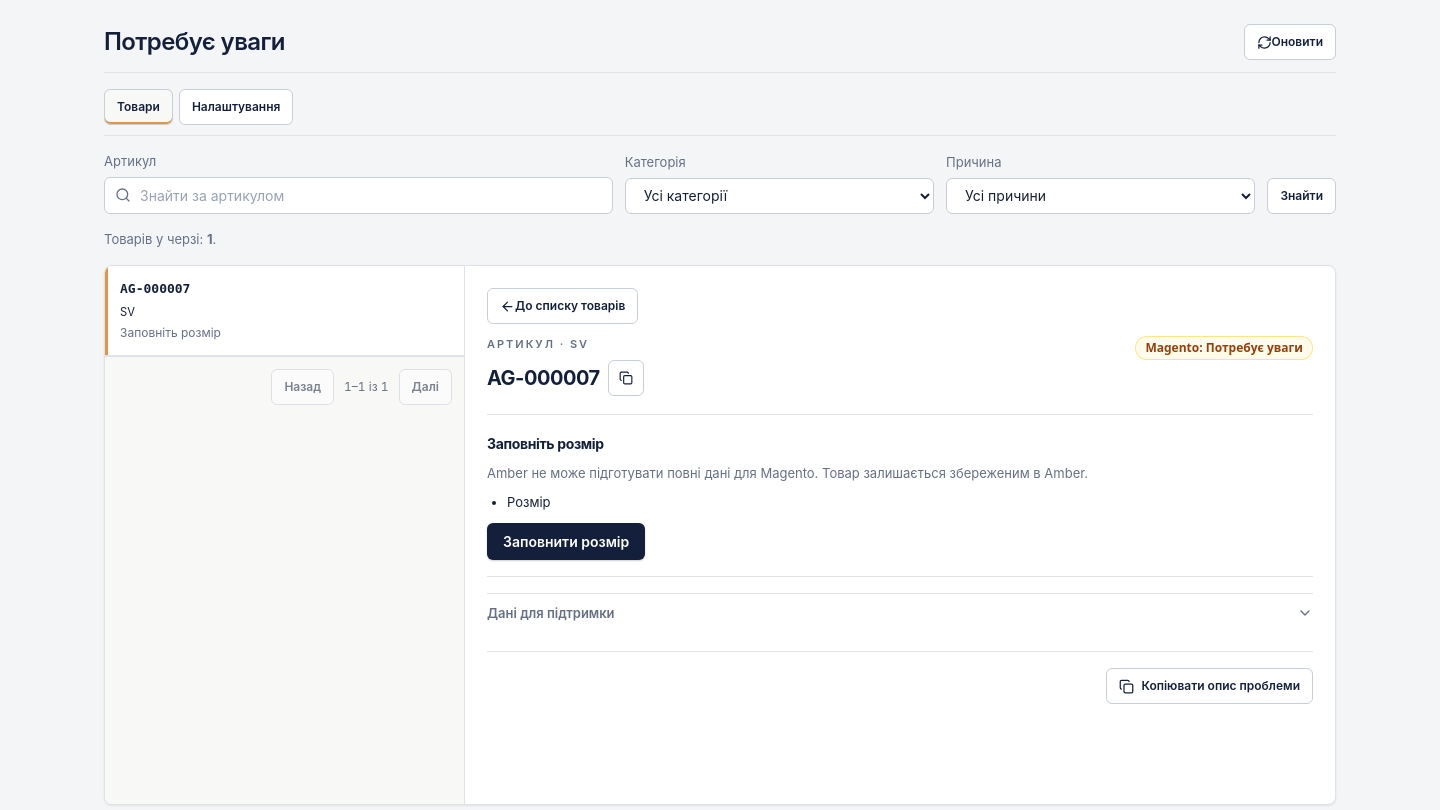
Test: successful repair retains the selected product when it leaves the attention queue without claiming delivery
The image size is (1440, 810).
Click the button "Заповнити розмір".
click(566, 541)  # box [487,522,645,560]
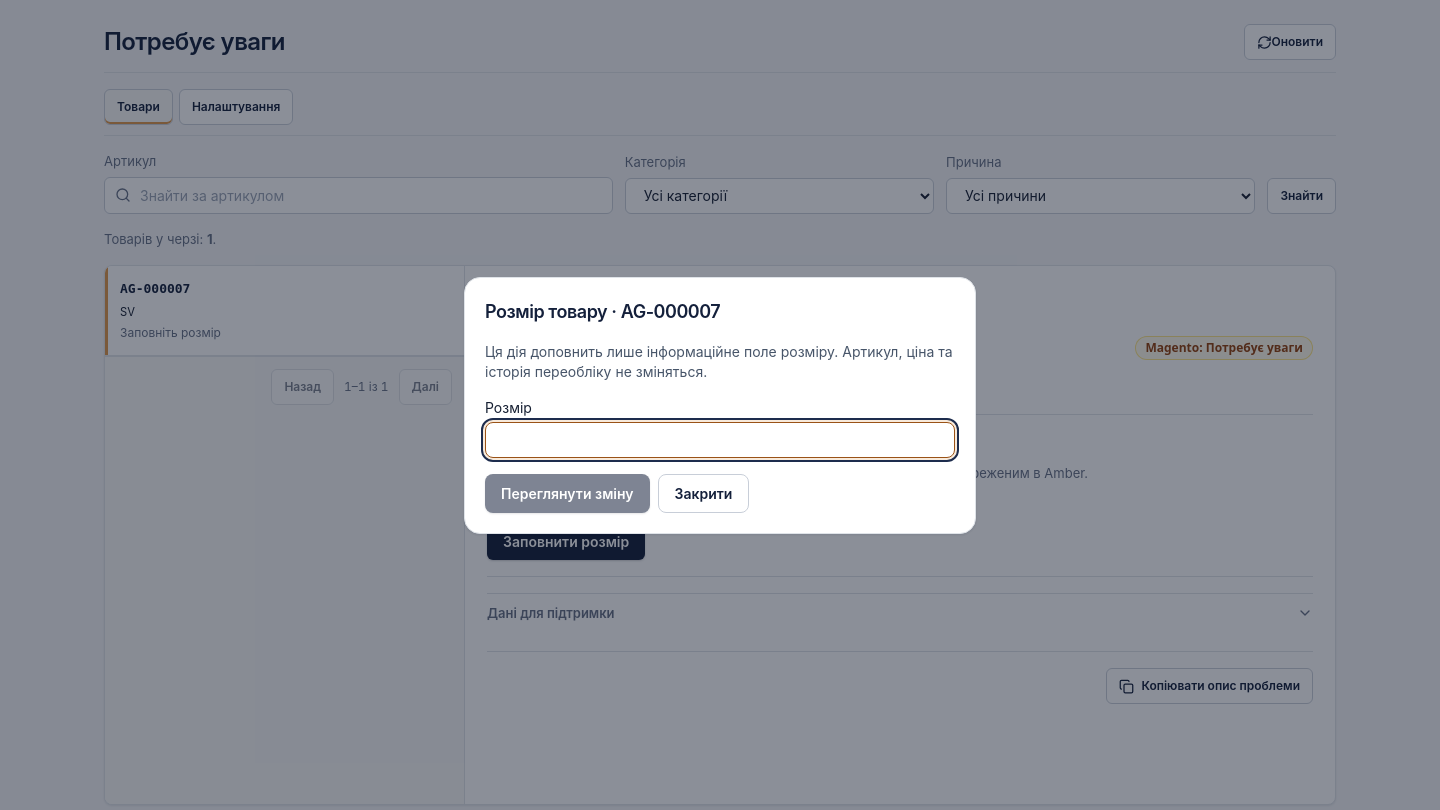
Type "12×8 см" into the field labelled "Розмір".
click(720, 440); type("12×8 см")  # box [485,422,955,458]
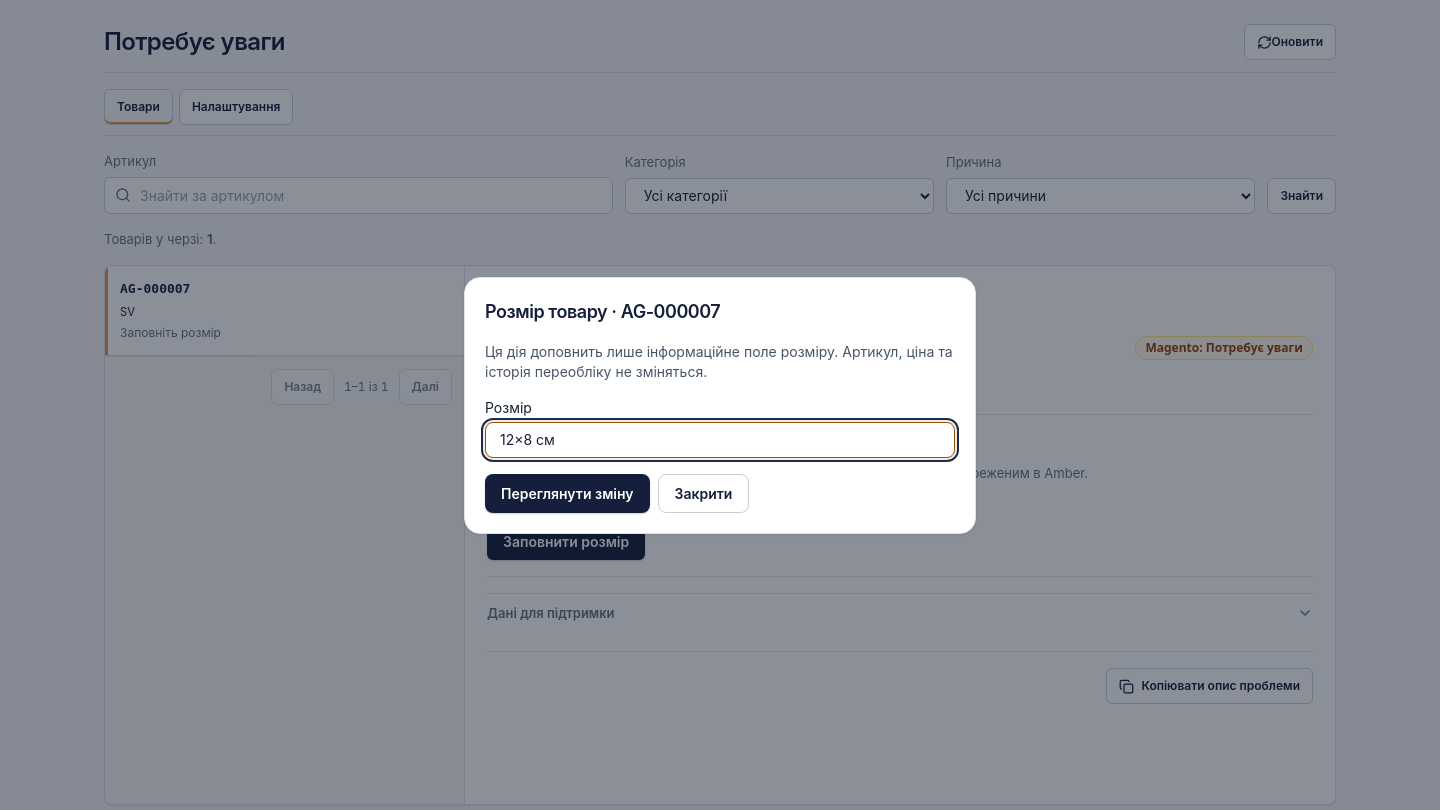
Click the button "Переглянути зміну".
click(567, 493)  # box [485,474,650,512]
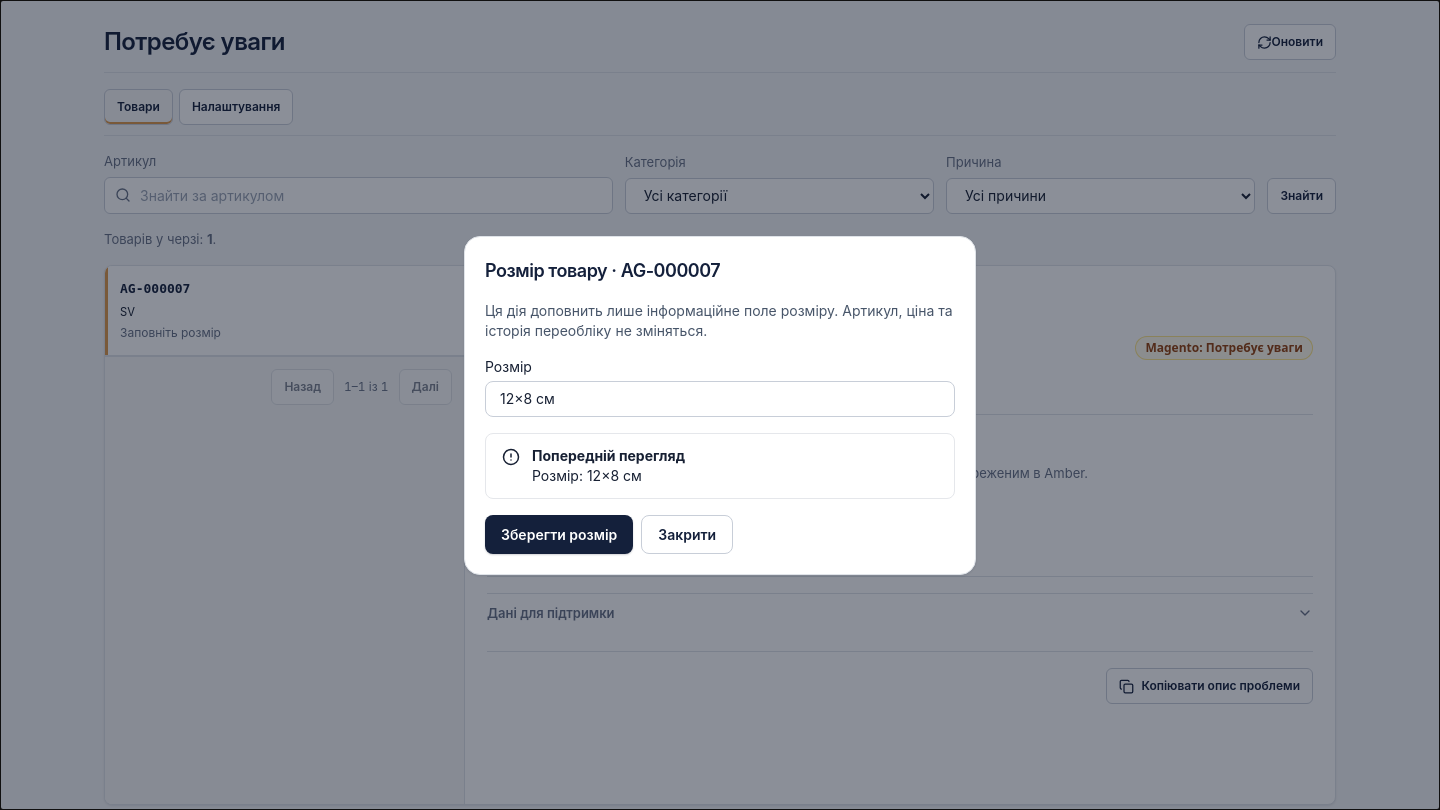
Click the button "Зберегти розмір".
click(559, 534)  # box [485,514,633,554]
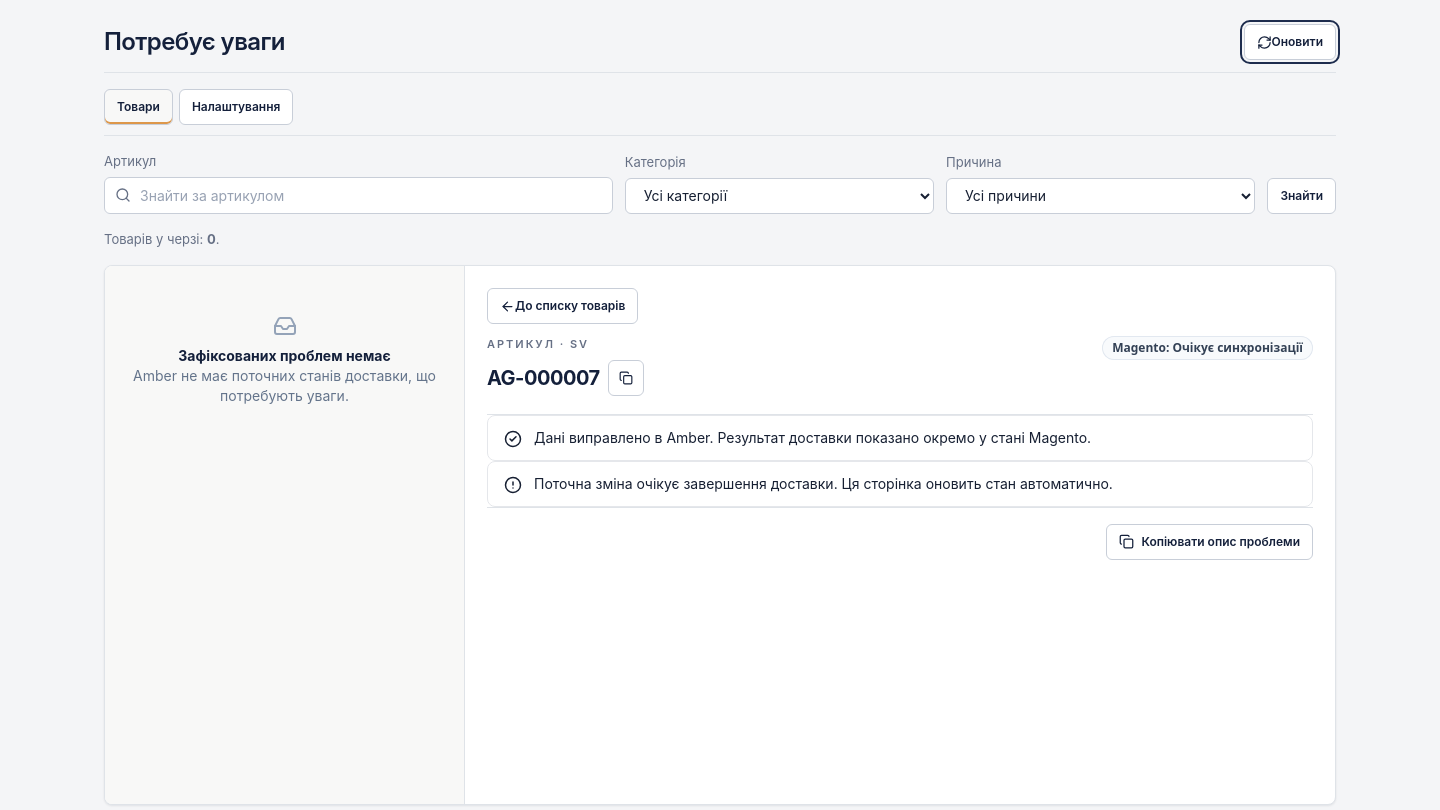
Check: the heading "AG-000007" is shown, box [487,360,644,396]
Check: the text "Дані виправлено в Amber. Результат доставки показано окремо у стані Magento." is shown, box [534,428,1091,446]
Check: the text "Magento: Очікує синхронізації" is shown, box [1102,336,1313,360]
